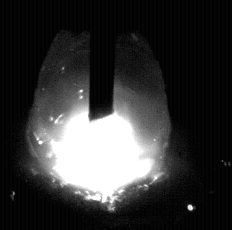arame: (90, 0, 115, 121)
poca: (26, 0, 171, 230)
